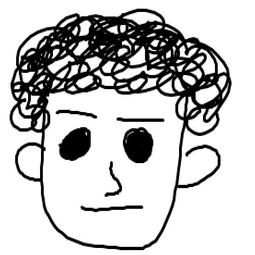ear: (173, 142, 223, 197), (9, 138, 47, 182)
eye: (53, 125, 94, 164), (119, 126, 154, 165)
eyebrow: (114, 112, 167, 125), (51, 107, 103, 120)
line_unsmiling_mouth: (80, 202, 147, 217)
nose: (96, 159, 124, 202)
